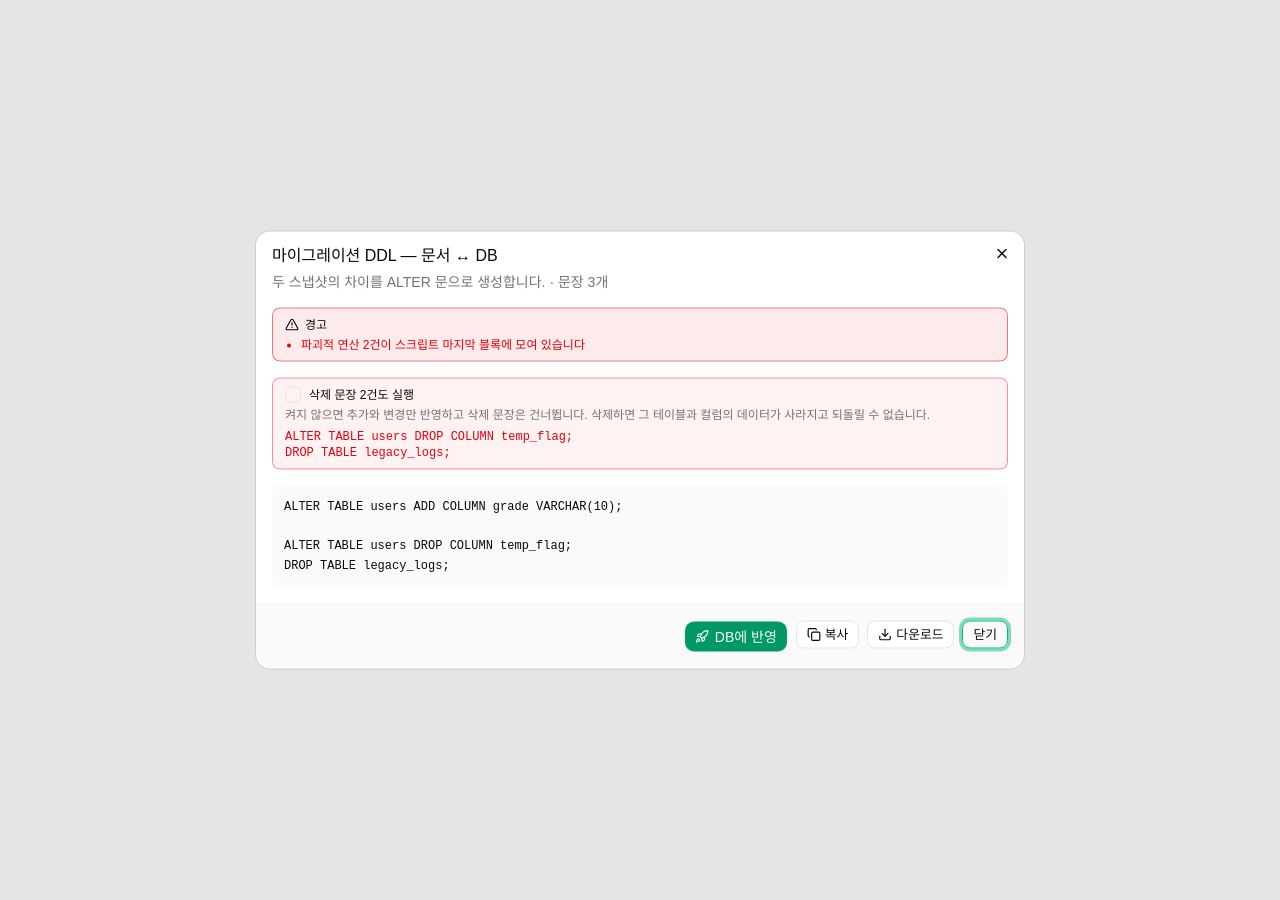
Test case: MigrationDdlDialog — 문서↔실제 DB › 삭제 문장을 켜면 함께 실행한다 — 확인창이 삭제 건수를 밝히고 위험 표시가 된다
Click the checkbox with test id "migration-include-destructive" at (293, 394), box [285,386,301,402]
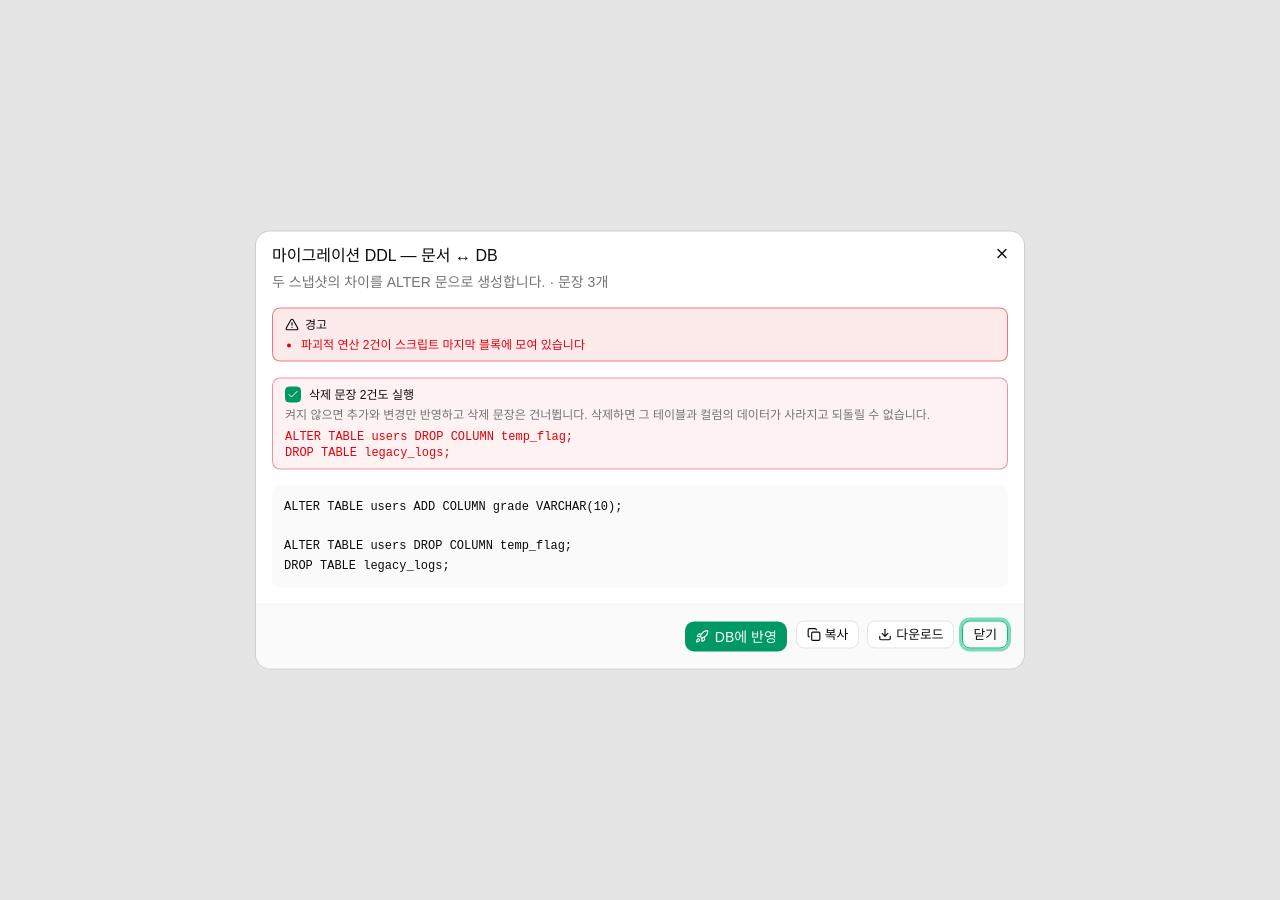
Click the button with test id "migration-apply" at (736, 636), box [684,620,788,652]
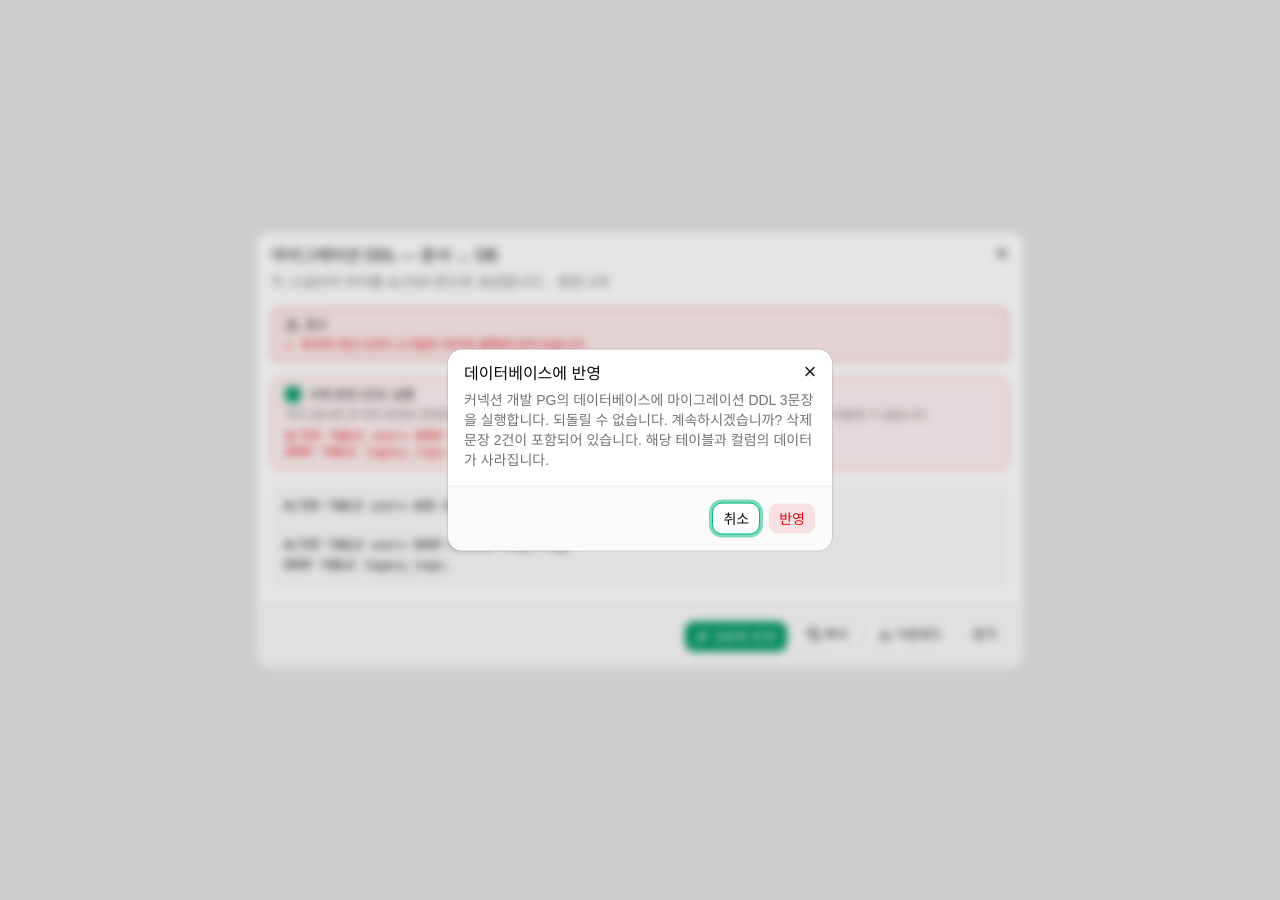
Expected: the text "삭제 문장 2건이 포함되어 있습니다" is shown, [464,392,813,468]
Click the button "반영" at (792, 518), box [768,502,816,534]
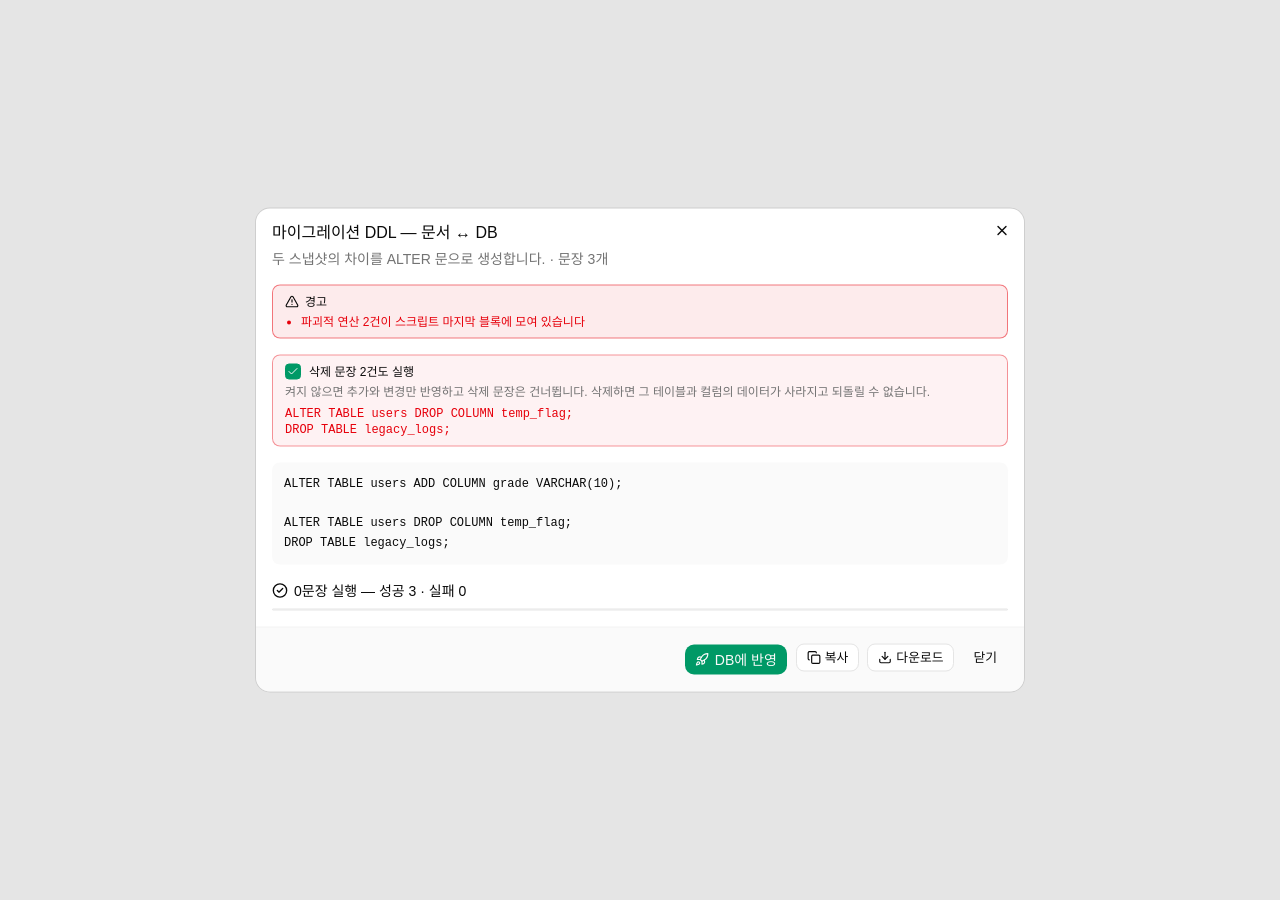
Expected: the element with test id "migration-apply-result" is shown, [272,580,1008,610]
